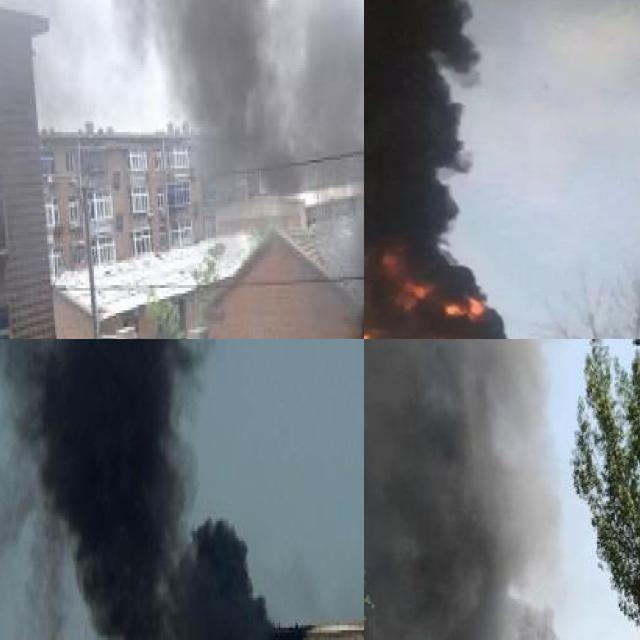smoke: (0, 339, 281, 640), (104, 0, 364, 279), (364, 339, 560, 640), (364, 0, 516, 339)
